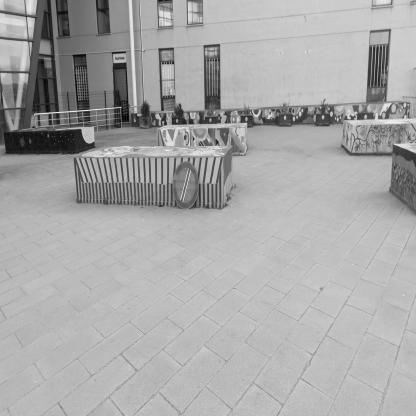No Waiting: (174, 163, 200, 209)
